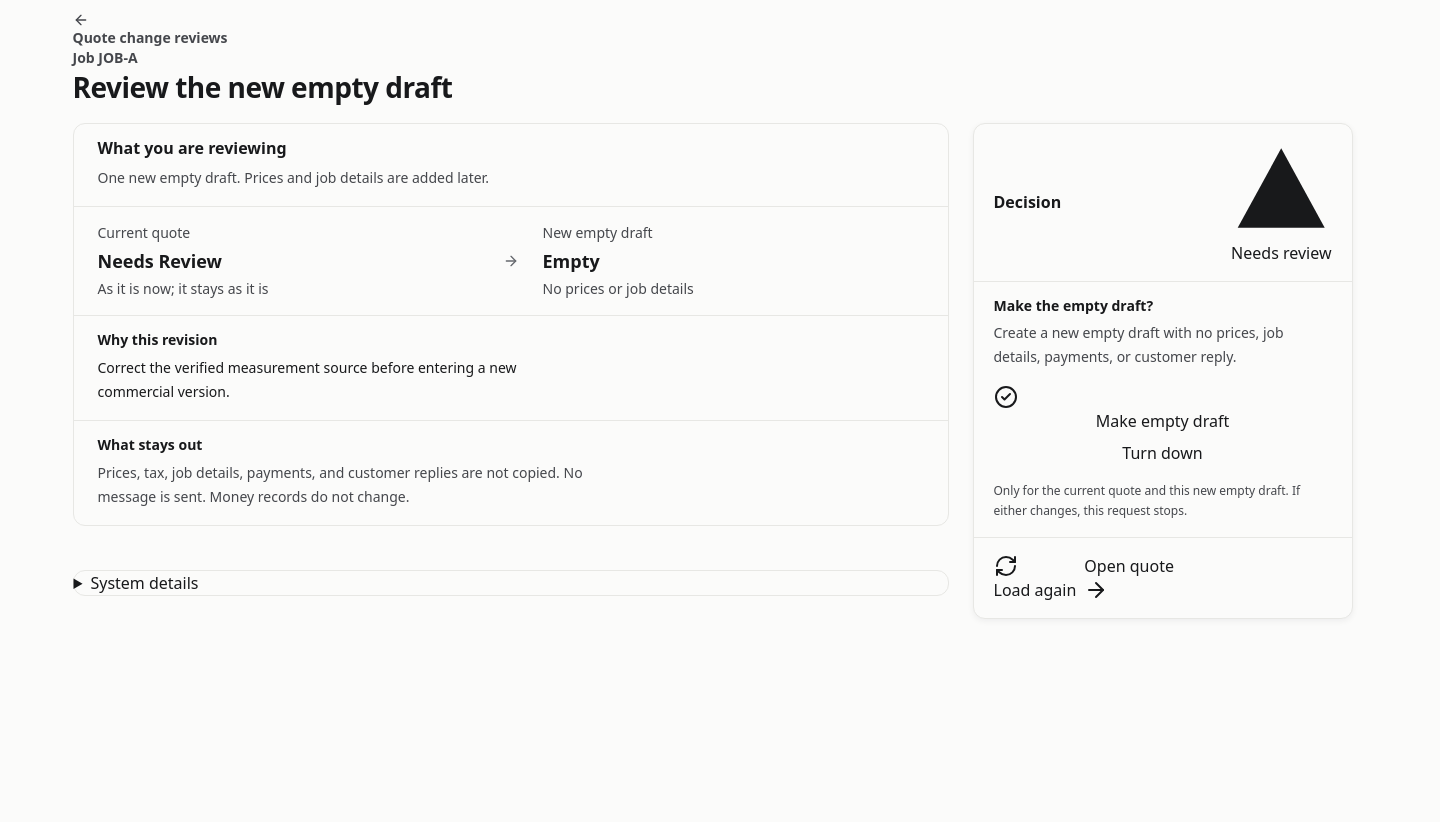
Test: QuoteRevisionApprovalPages › fails closed when an uncertain decision cannot be followed by a current read
Check: the heading "Review the new empty draft" is shown, box [72,72,452,103]
Step 1. Click the button "Make empty draft" → (1162, 409), box [994,385,1332,433]
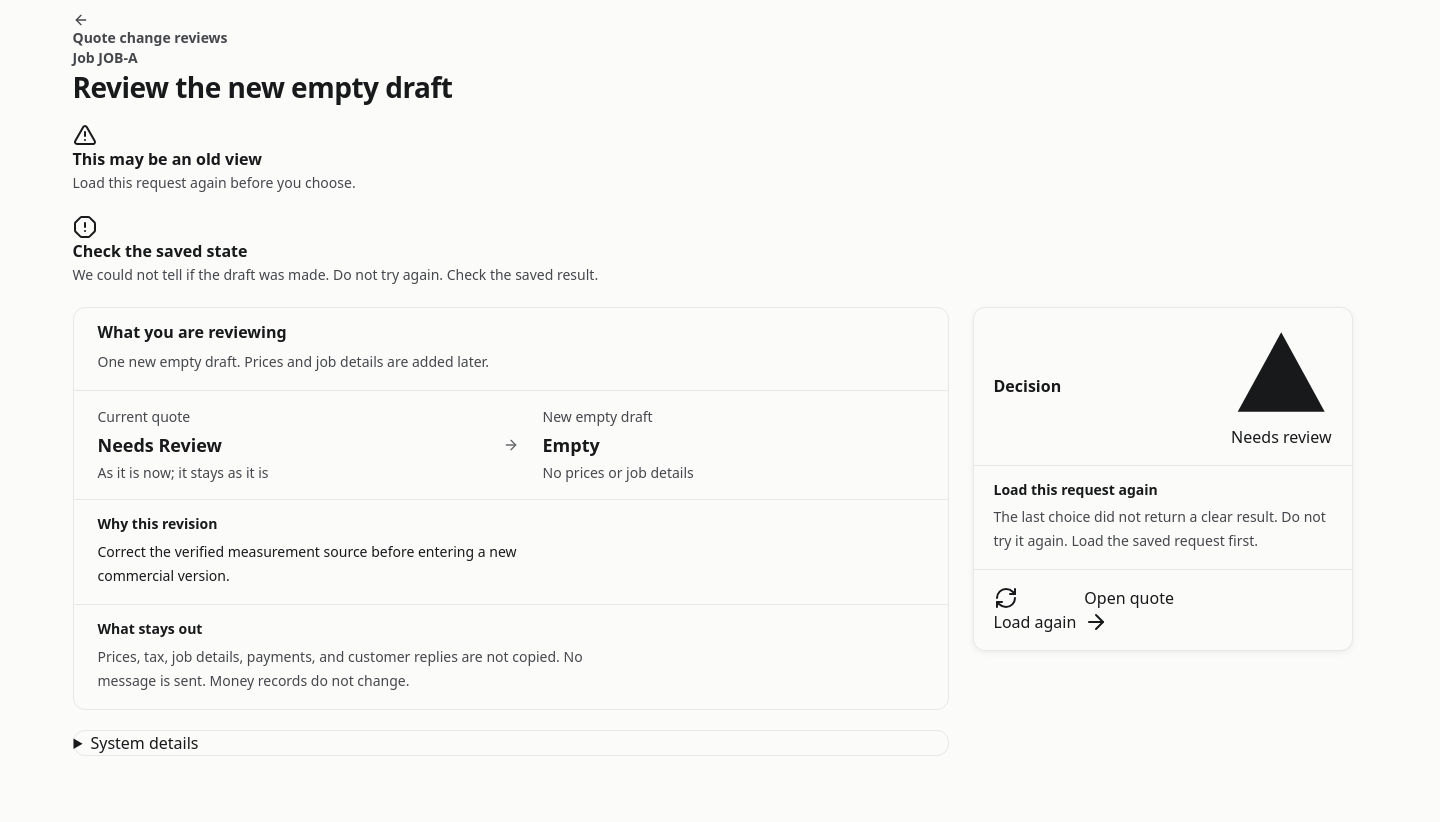
Check: the text "could not tell if the draft was made. Do not try again" is shown, box [72,265,598,284]
Check: the text "Check the saved state" is shown, box [72,240,248,262]
Check: the heading "Load this request again" is shown, box [994,480,1158,499]
